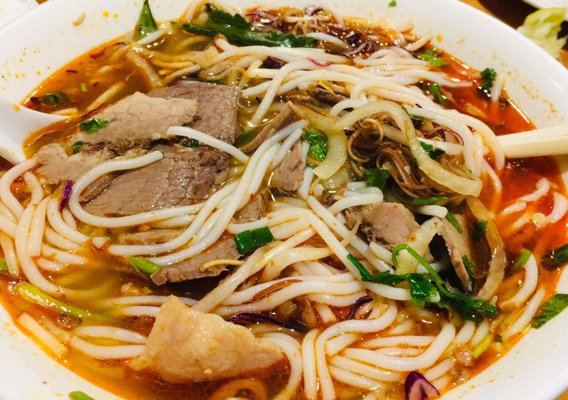curry: (303, 127, 329, 167)
sushi: (6, 0, 567, 397)
